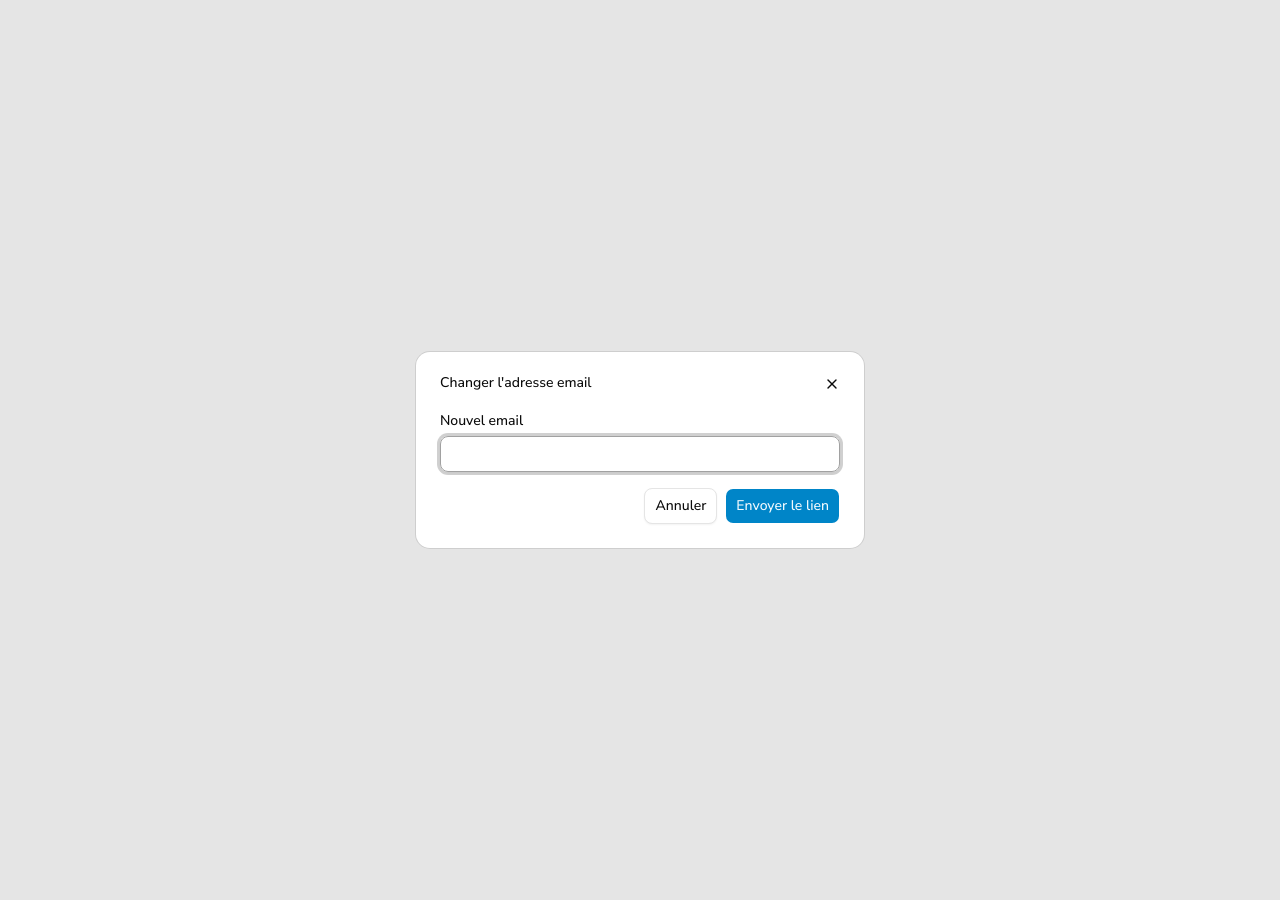
Scenario: EditEmailDialog › affiche l'erreur traduite quand la vérification email n'est pas activée et ne passe pas en état 'envoyé'
Type "nouveau@exemple.com" into the field labelled "Nouvel email". click: (640, 454)
box: x1=440 y1=436 x2=840 y2=472
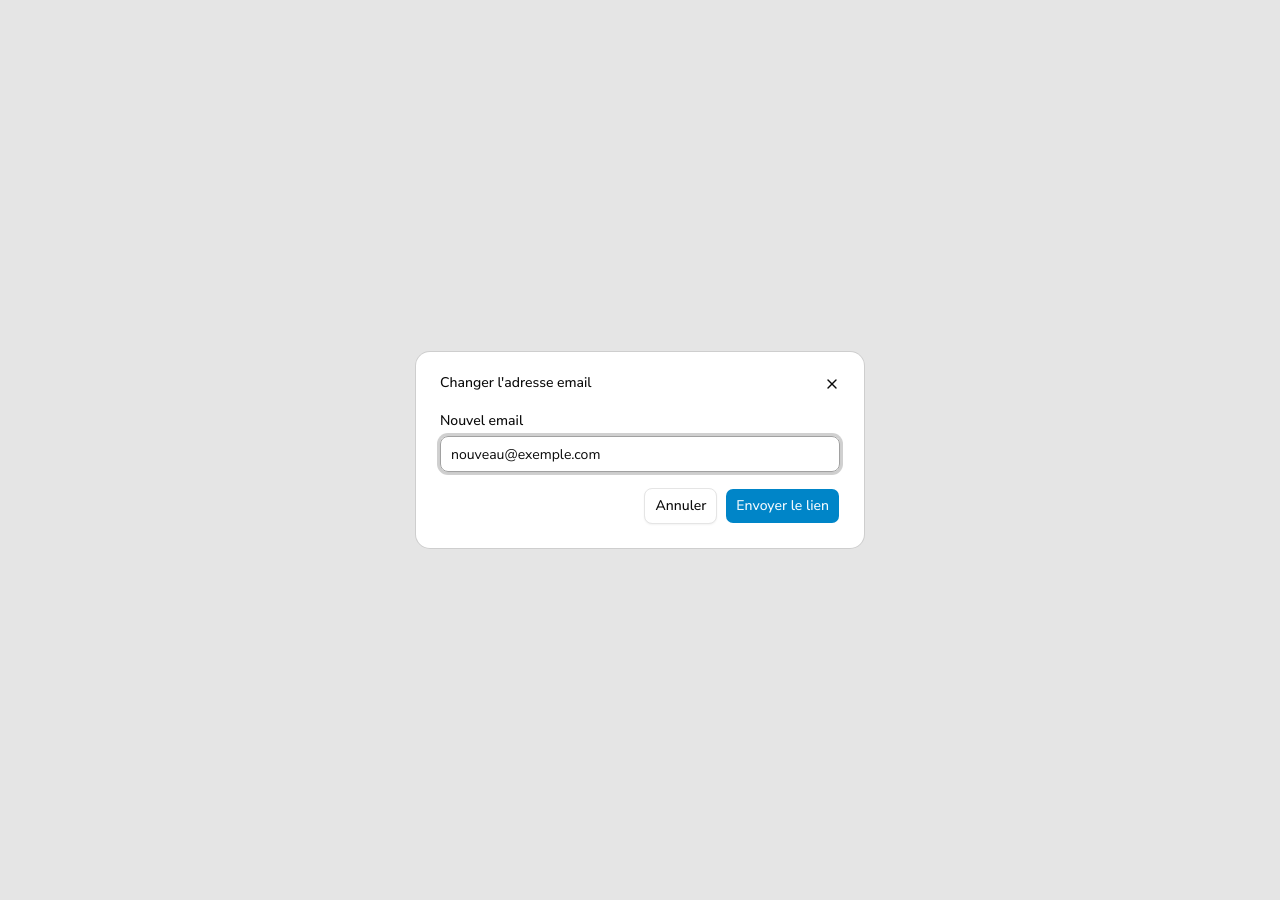
Click the button "Envoyer le lien". click: (783, 506)
box: x1=725 y1=488 x2=840 y2=524
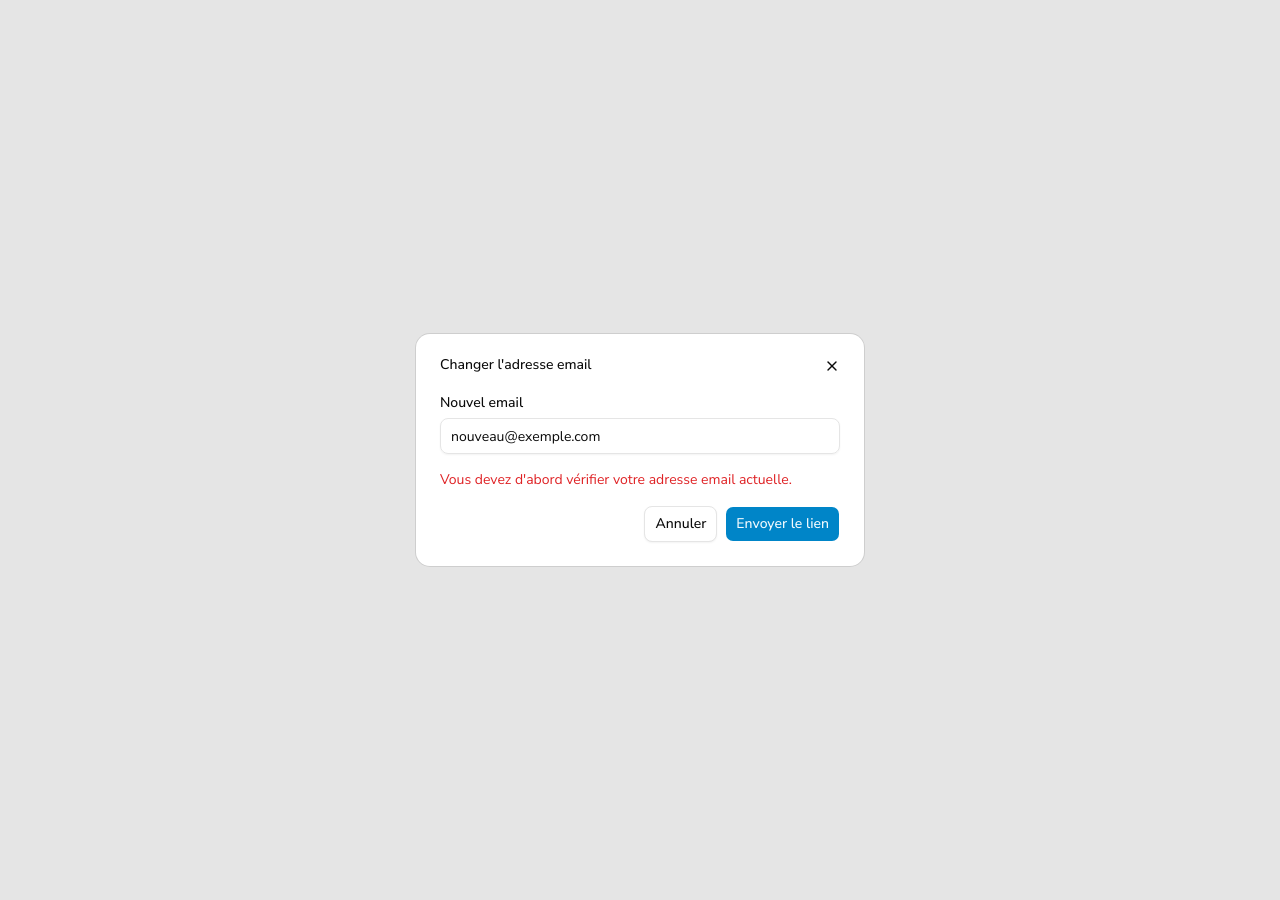
Check: the text "Vous devez d'abord vérifier votre adresse email actuelle." is shown, box x1=440 y1=470 x2=840 y2=490
